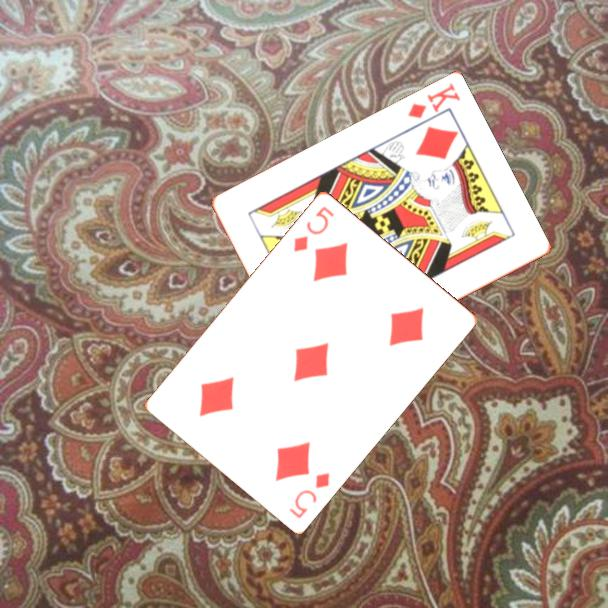d05: (285, 468, 333, 521), (290, 202, 337, 255)
d13: (404, 80, 463, 122)
